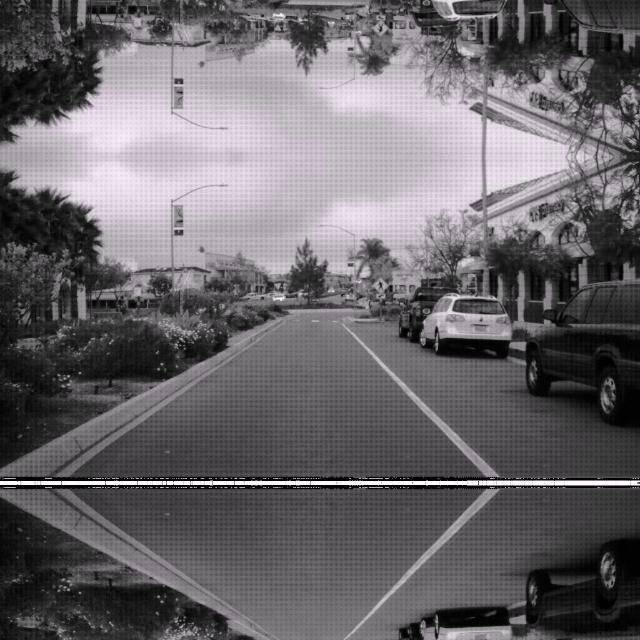pedestrianCrossing: (371, 274, 389, 292), (371, 20, 389, 38)
